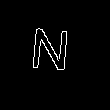N_S: (33, 28, 77, 82)
